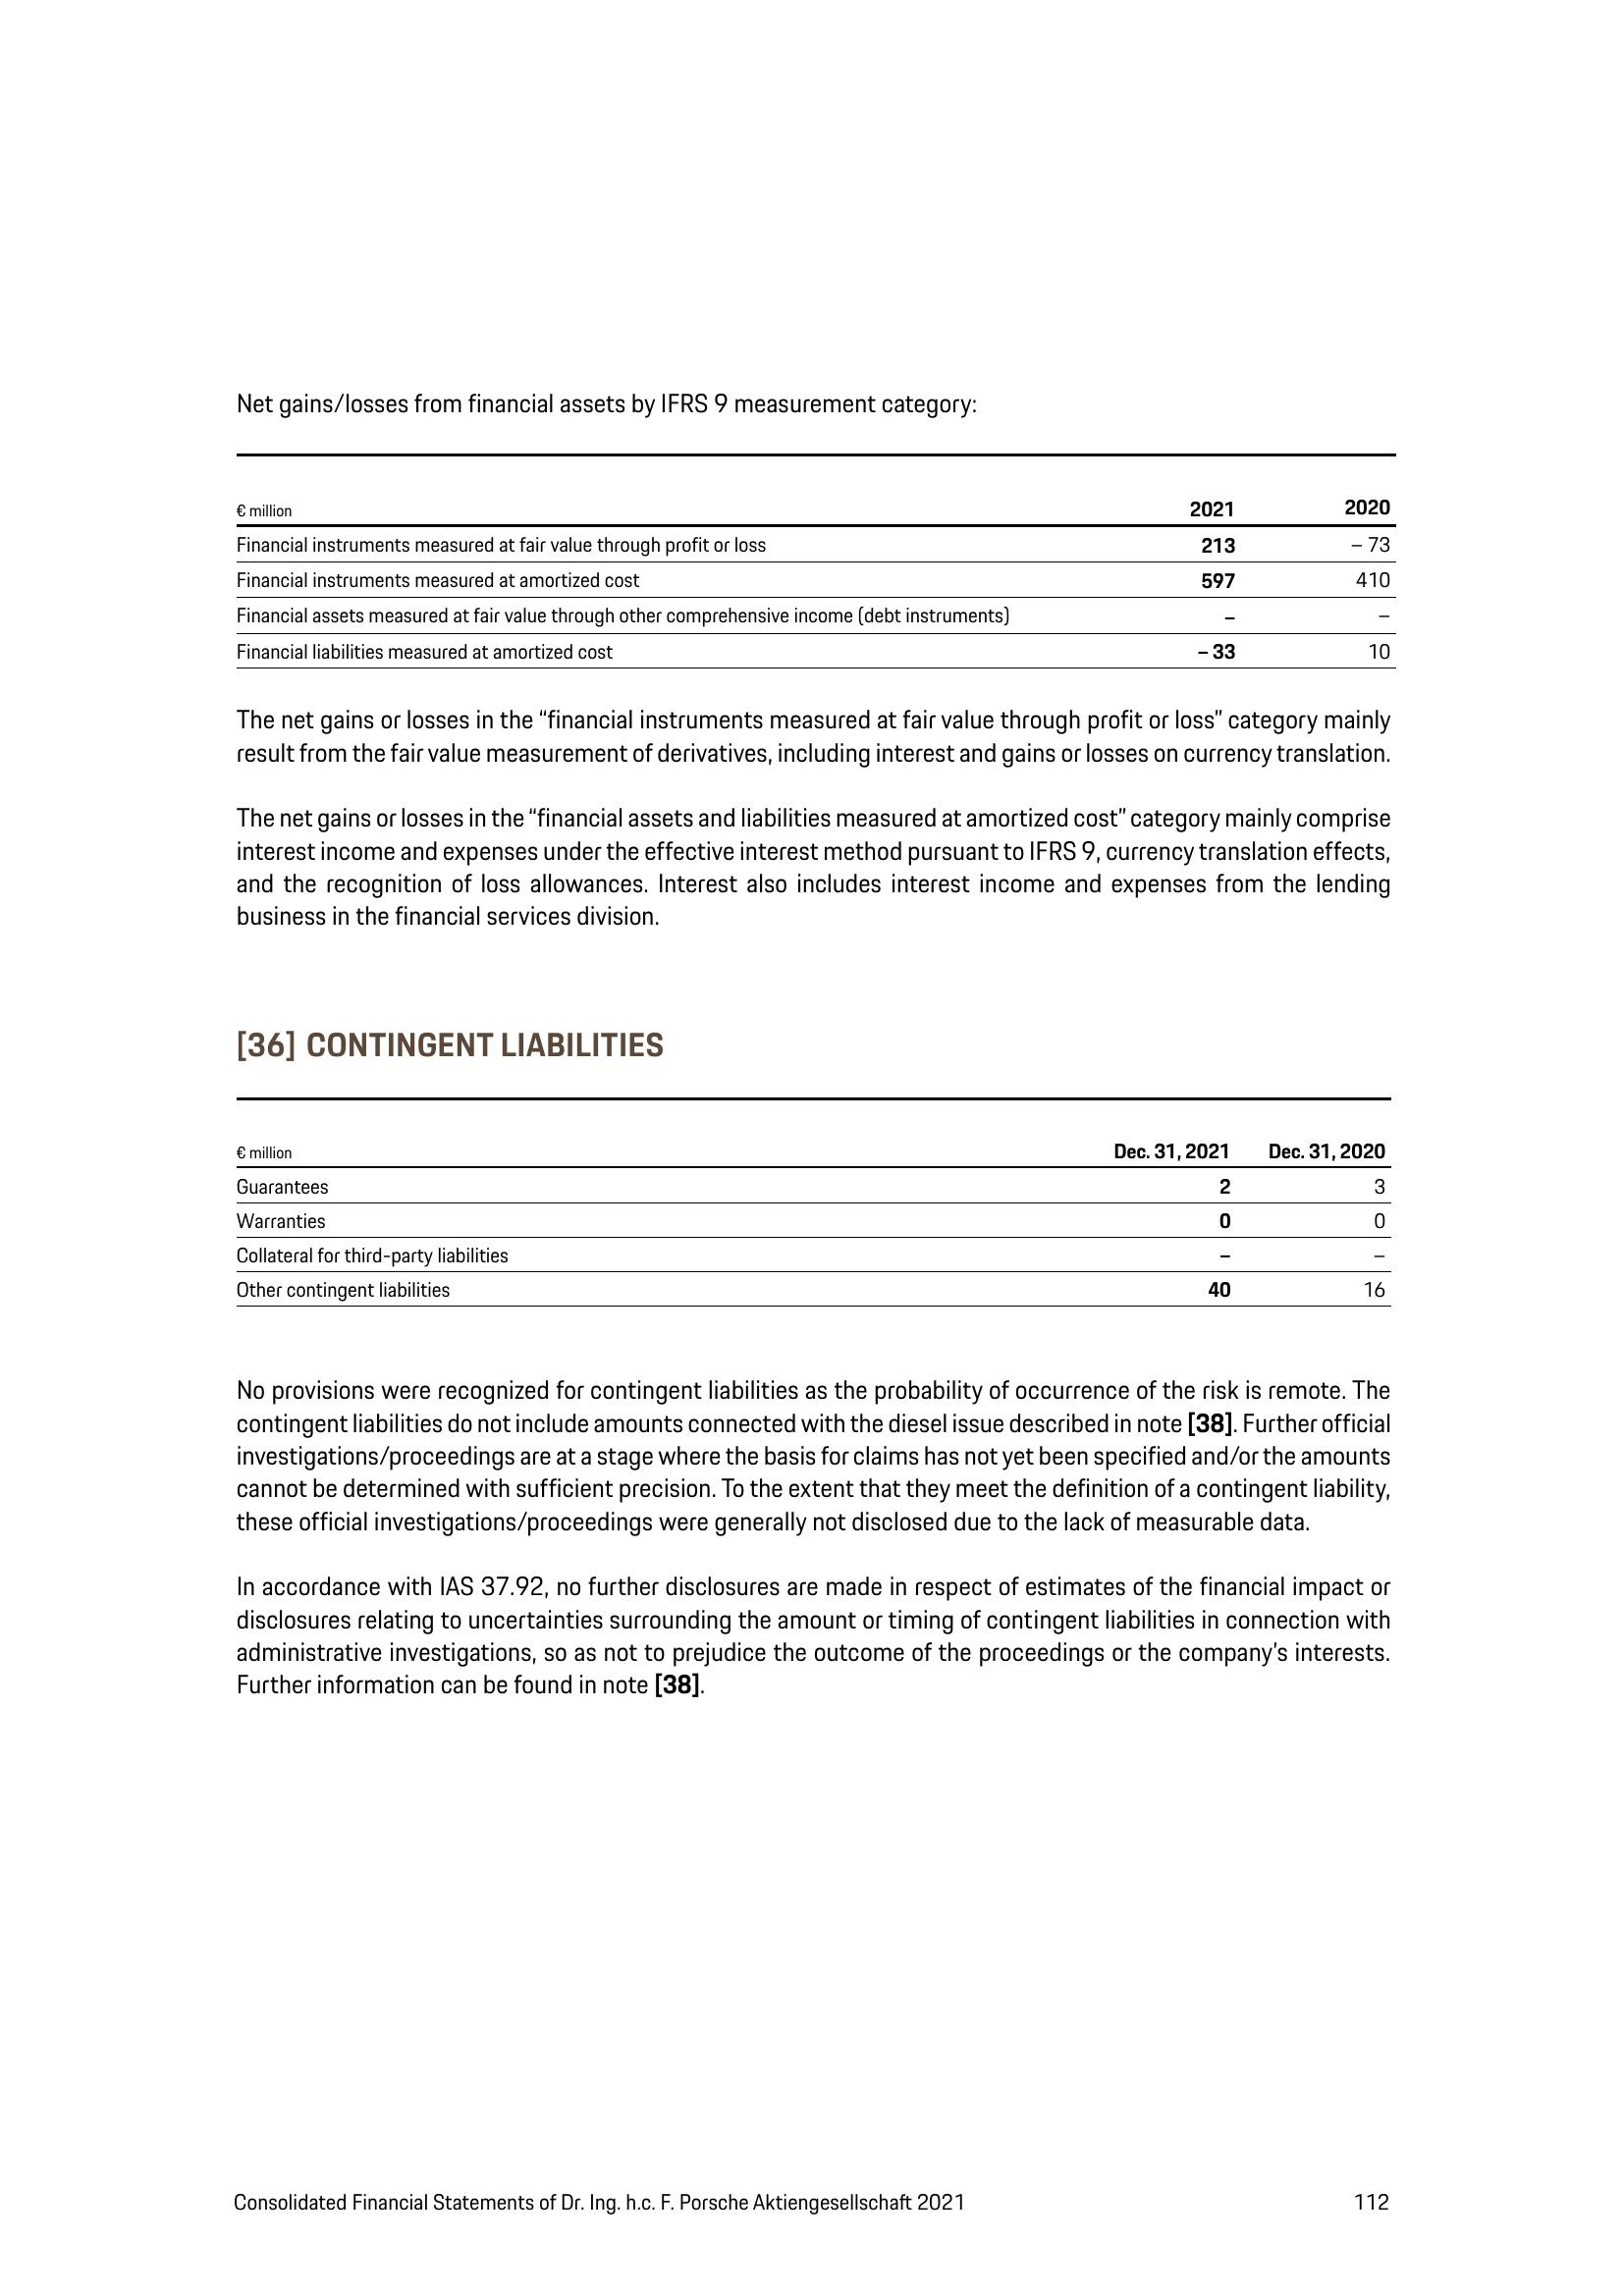Footer: (0, 2161, 1624, 2296)
Header: (0, 0, 1624, 232)
Table: (181, 448, 1461, 675), (204, 1105, 1425, 1333)
